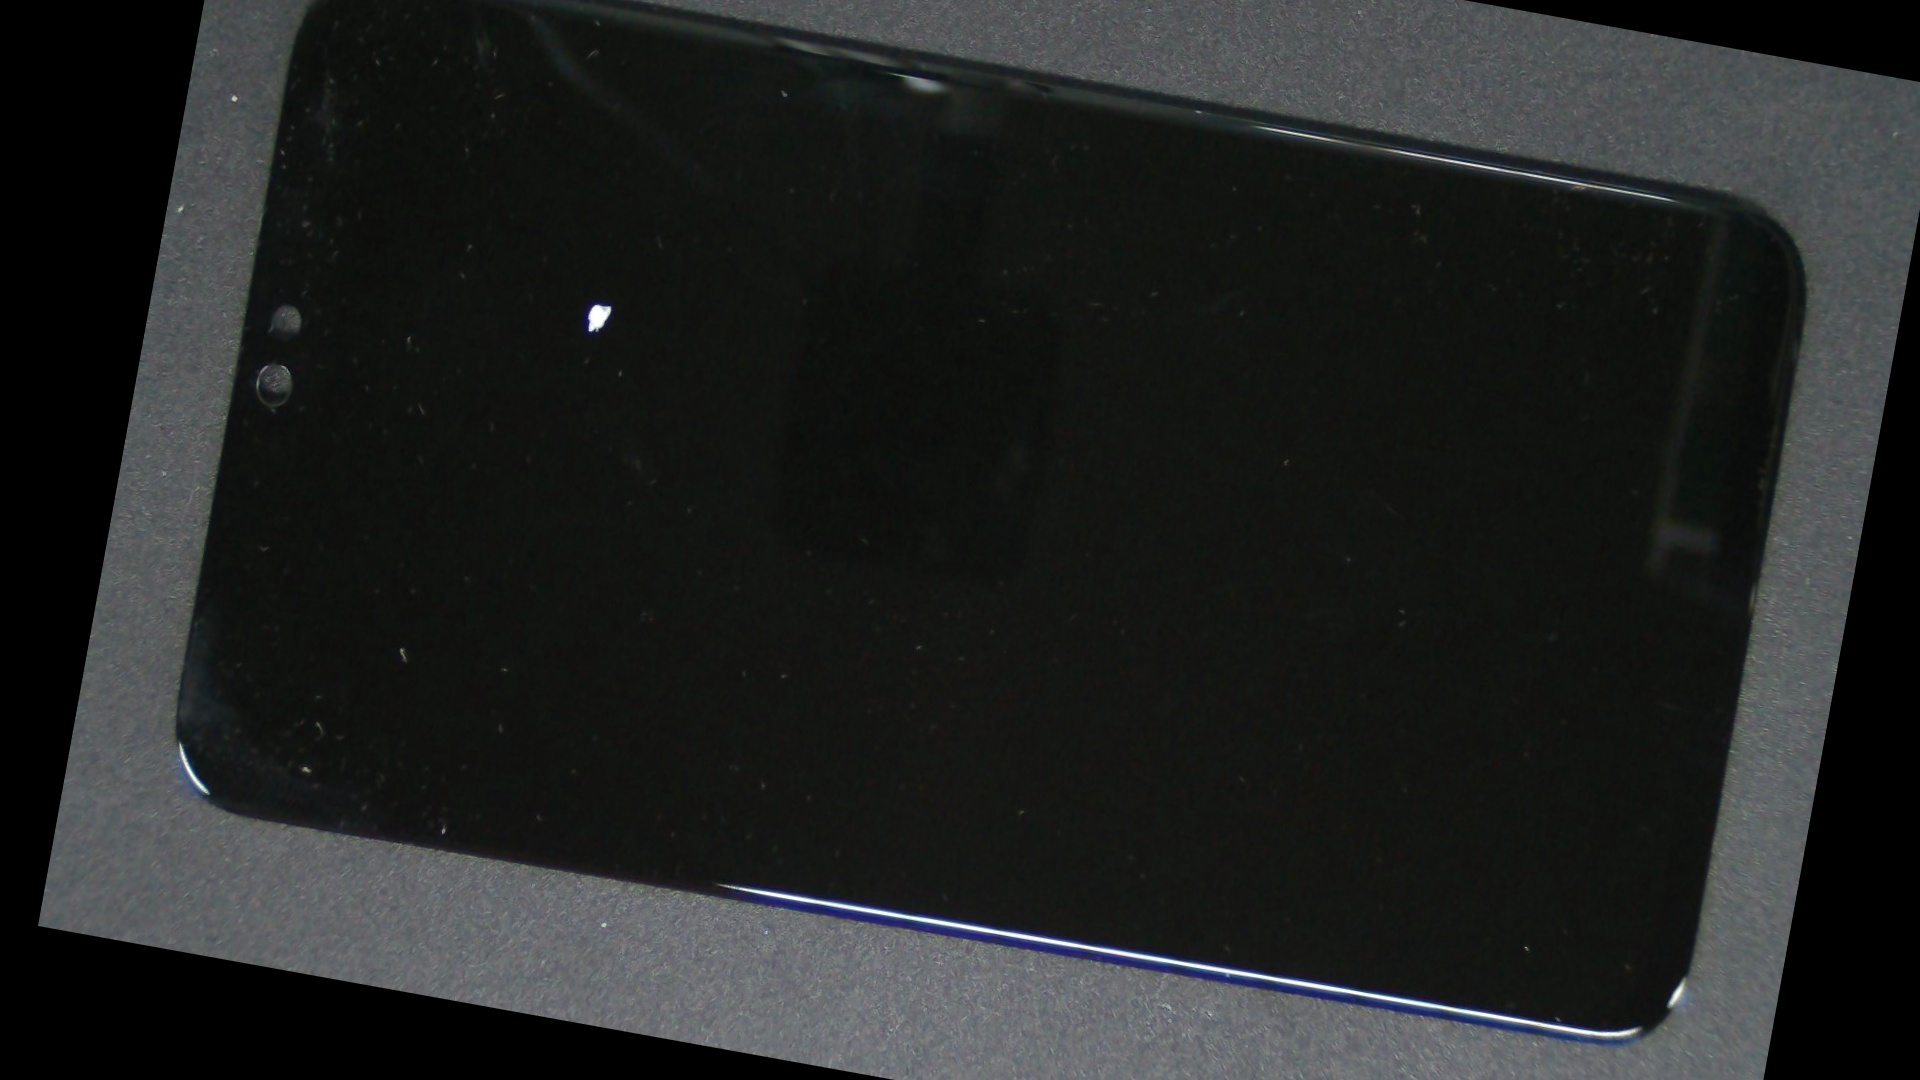oil: (348, 42, 874, 567)
